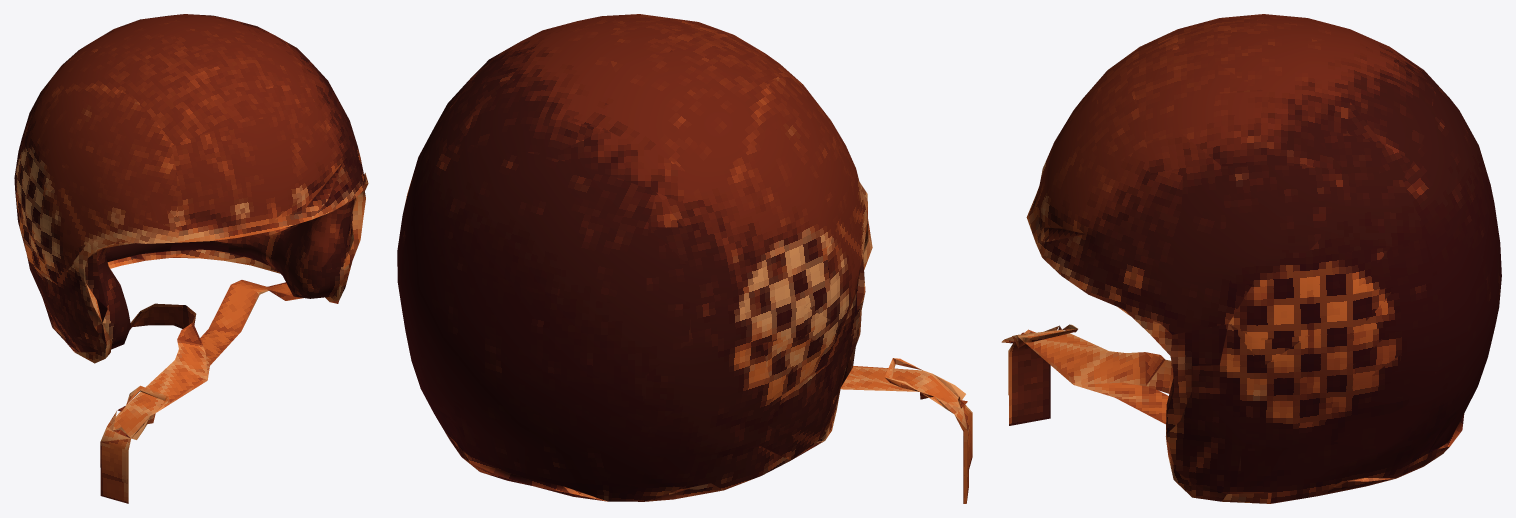
Rendered from wear_moto.glb.
3 views of the same model, side by side, from view 1: azimuth 30°, elevation 25°; view 2: azimuth 150°, elevation 25°; view 3: azimuth 270°, elevation 25° (orthographic). The views are drawn at different scales.
Visible parts, largest first — view 1: mesh; view 2: mesh; view 3: mesh.
Boxes of the visible parts, left/top/right/bottom form: mesh: left=14, top=14, right=368, bottom=503; mesh: left=397, top=14, right=972, bottom=503; mesh: left=1001, top=14, right=1501, bottom=503.
Bounding box in the file's own units: 0.2446 × 0.27 × 0.2501.
1 material, 1 textured.
